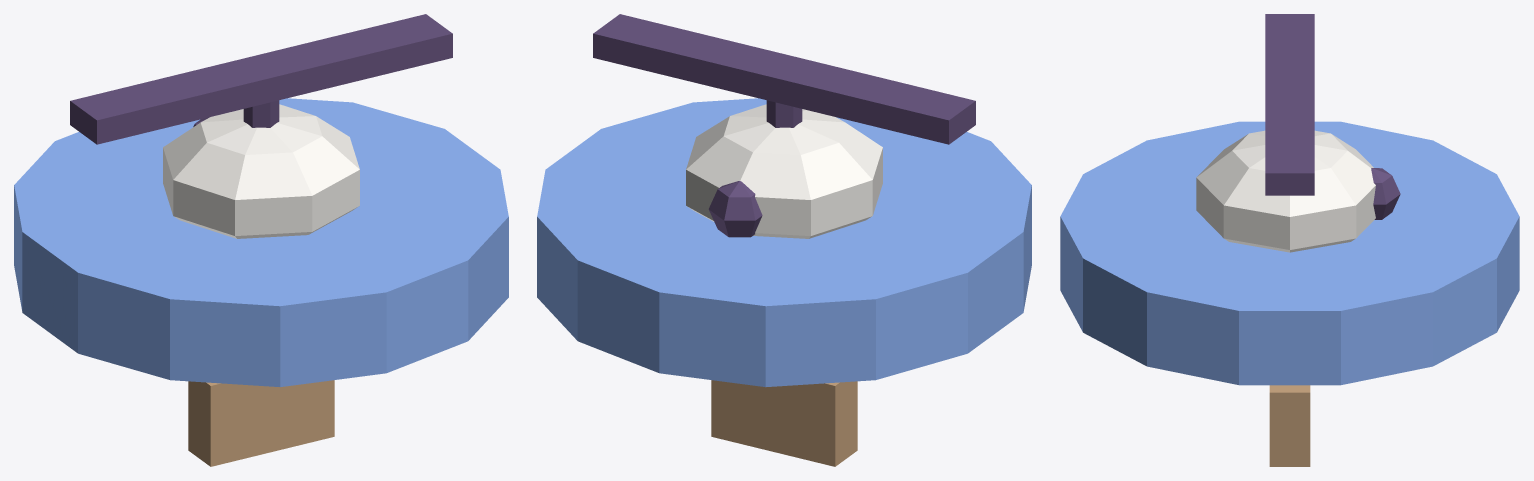
File: robot_drone.glb
3 renders of one model, left to right at view 1: azimuth 30°, elevation 25°; view 2: azimuth 150°, elevation 25°; view 3: azimuth 270°, elevation 25°, orthographic. The views are drawn at different scales.
Parts seen in each view (by area): view 1: saucer, dome, rotor, broom, mast; view 2: saucer, rotor, dome, broom, eye, mast; view 3: saucer, dome, rotor, broom, eye.
Part boxes in pixels (bbox=[...]): saucer: bbox=[14, 98, 508, 387]; dome: bbox=[163, 104, 359, 238]; rotor: bbox=[70, 14, 452, 144]; broom: bbox=[188, 380, 334, 466]; mast: bbox=[243, 100, 279, 127]; saucer: bbox=[537, 98, 1031, 387]; rotor: bbox=[593, 14, 975, 144]; dome: bbox=[686, 104, 882, 238]; broom: bbox=[711, 380, 857, 466]; eye: bbox=[708, 181, 762, 237]; mast: bbox=[766, 100, 802, 127]; saucer: bbox=[1060, 121, 1519, 385]; dome: bbox=[1196, 130, 1375, 252]; rotor: bbox=[1265, 14, 1314, 195]; broom: bbox=[1269, 385, 1310, 466]; eye: bbox=[1371, 168, 1400, 219].
Bounding box in the file's own units: 0.546 × 0.465 × 0.56.
